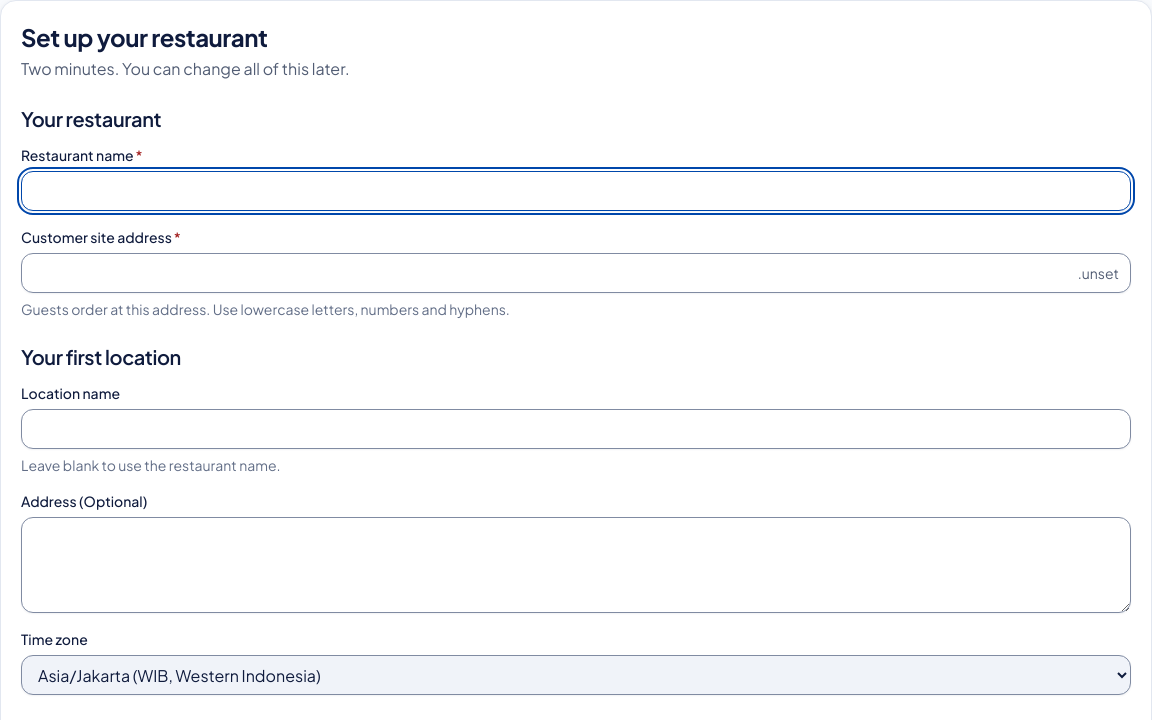
create restaurant › says when the address is taken
In the field labelled "Customer site address*": point(576, 273) [21,253,1131,293], type "taken-one"
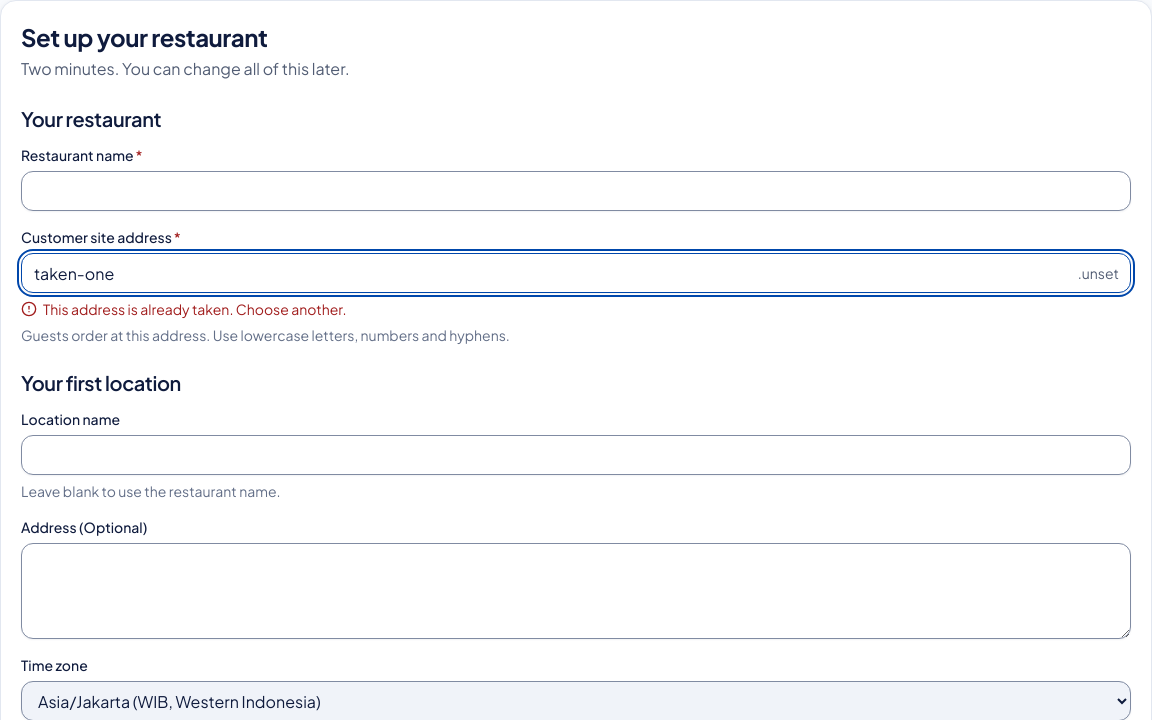
Check: the text "This address is already taken. Choose another." is shown, box [43,299,346,319]
